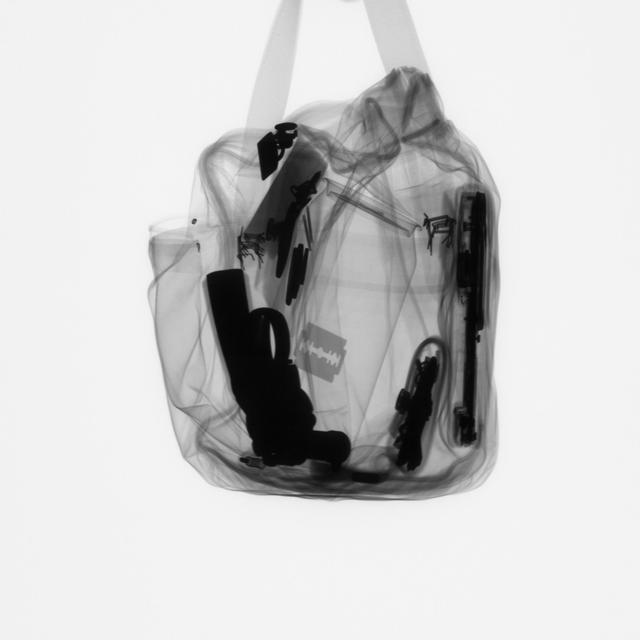gun: (199, 264, 318, 467)
